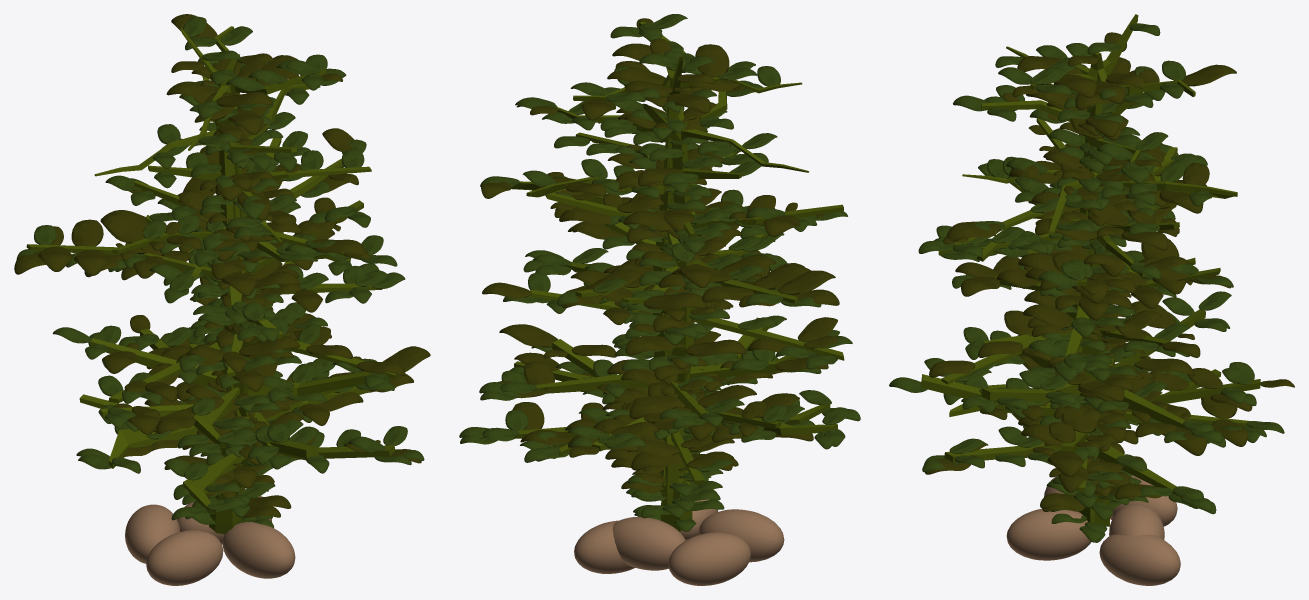
Rendered from kentang remake 0.1.fbx.
The picture shows the model from 3 angles, left to right: view 1: azimuth 30°, elevation 25°; view 2: azimuth 150°, elevation 25°; view 3: azimuth 270°, elevation 25°; orthographic projection.
Parts seen in each view (by area): view 1: Cube.001, Sphere.008, Cube.001|2|Dupli|340, Cube.001|2|Dupli|289, Cube.001|2|Dupli|218, Cube.001|2|Dupli|475, Cube.001|2|Dupli|147, Cube.001|2|Dupli|185, Cube.001|2|Dupli|84, Cube.001|2|Dupli|11, Cube.001|2|Dupli|376, Cube.001|2|Dupli|71 (+1 smaller); view 2: Cube.001, Sphere.008, Cube.001|2|Dupli|147, Cube.001|2|Dupli|172, Cube.001|2|Dupli|403, Cube.001|2|Dupli|11, Cube.001|2|Dupli|185, Cube.001|2|Dupli|408, Cube.001|2|Dupli|475, Cube.001|2|Dupli|75, Cube.001|2|Dupli|71, Cube.001|2|Dupli|211 (+11 smaller); view 3: Cube.001, Sphere.008, Cube.001|2|Dupli|418, Cube.001|2|Dupli|376, Cube.001|2|Dupli|172, Cube.001|2|Dupli|165, Cube.001|2|Dupli|147, Cube.001|2|Dupli|339, Cube.001|2|Dupli|194, Cube.001|2|Dupli|113, Cube.001|2|Dupli|365, Cube.001|2|Dupli|472 (+10 smaller).
Part boxes in pixels (left/top/right/bottom): Cube.001: left=26, top=26, right=398, bottom=534; Sphere.008: left=125, top=496, right=295, bottom=585; Cube.001|2|Dupli|340: left=100, top=213, right=145, bottom=243; Cube.001|2|Dupli|289: left=71, top=219, right=103, bottom=246; Cube.001|2|Dupli|218: left=239, top=335, right=299, bottom=356; Cube.001|2|Dupli|475: left=74, top=249, right=109, bottom=275; Cube.001|2|Dupli|147: left=383, top=346, right=430, bottom=371; Cube.001|2|Dupli|185: left=216, top=91, right=272, bottom=107; Cube.001|2|Dupli|84: left=166, top=81, right=219, bottom=99; Cube.001|2|Dupli|11: left=38, top=246, right=73, bottom=271; Cube.001|2|Dupli|376: left=311, top=239, right=366, bottom=255; Cube.001|2|Dupli|71: left=103, top=351, right=138, bottom=373; Cube.001: left=511, top=22, right=844, bottom=531; Sphere.008: left=574, top=499, right=784, bottom=585; Cube.001|2|Dupli|147: left=499, top=324, right=558, bottom=347; Cube.001|2|Dupli|172: left=629, top=395, right=685, bottom=418; Cube.001|2|Dupli|403: left=643, top=293, right=706, bottom=309; Cube.001|2|Dupli|11: left=778, top=270, right=835, bottom=294; Cube.001|2|Dupli|185: left=695, top=44, right=729, bottom=77; Cube.001|2|Dupli|408: left=685, top=339, right=746, bottom=356; Cube.001|2|Dupli|475: left=753, top=265, right=810, bottom=289; Cube.001|2|Dupli|75: left=625, top=336, right=676, bottom=355; Cube.001|2|Dupli|71: left=698, top=385, right=756, bottom=407; Cube.001|2|Dupli|211: left=631, top=451, right=682, bottom=470; Cube.001: left=921, top=14, right=1260, bottom=526; Sphere.008: left=1006, top=475, right=1180, bottom=585; Cube.001|2|Dupli|418: left=1022, top=304, right=1074, bottom=328; Cube.001|2|Dupli|376: left=946, top=221, right=1000, bottom=241; Cube.001|2|Dupli|172: left=1134, top=358, right=1194, bottom=376; Cube.001|2|Dupli|165: left=1182, top=64, right=1236, bottom=86; Cube.001|2|Dupli|147: left=1047, top=451, right=1084, bottom=476; Cube.001|2|Dupli|339: left=1061, top=405, right=1097, bottom=432; Cube.001|2|Dupli|194: left=1054, top=74, right=1096, bottom=97; Cube.001|2|Dupli|113: left=929, top=360, right=975, bottom=377; Cube.001|2|Dupli|365: left=1211, top=419, right=1248, bottom=446; Cube.001|2|Dupli|472: left=1009, top=163, right=1061, bottom=183.
Bounding box in the file's own units: 325 × 438 × 301.
